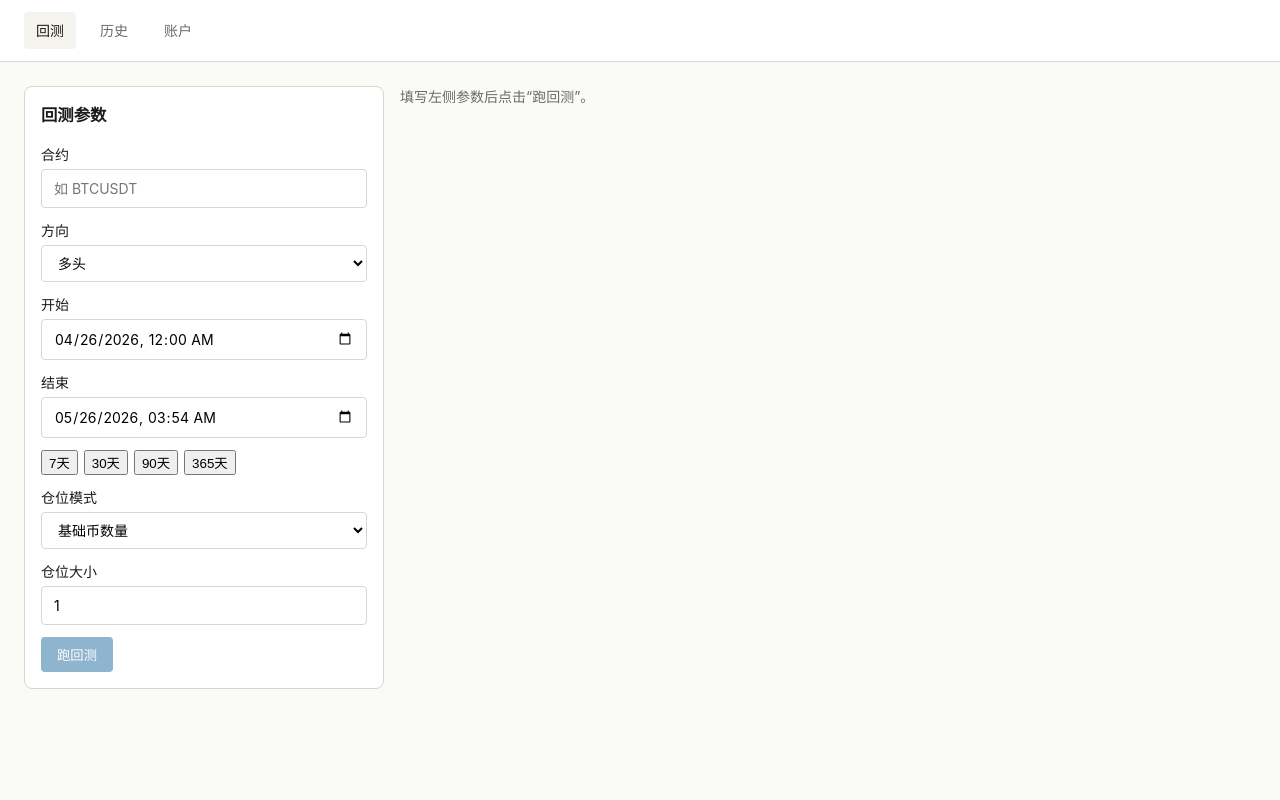
Test: App › switches between tabs on click
The width and height of the screenshot is (1280, 800).
Click the tab "账户". click: (178, 30)
box: x1=152 y1=12 x2=204 y2=49
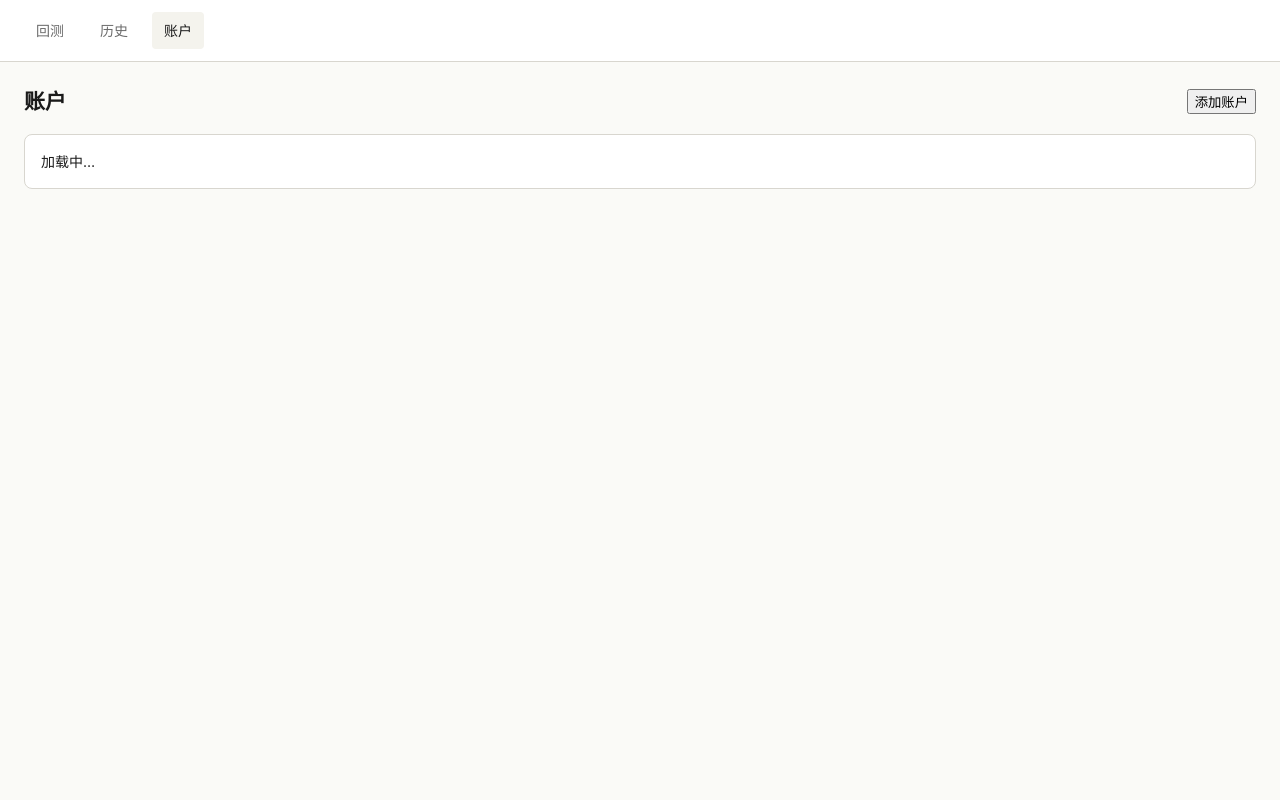
Expected: the element with test id "page-accounts" is shown, x1=24 y1=86 x2=1256 y2=188
Click the tab "历史". click: (114, 30)
box: x1=88 y1=12 x2=140 y2=49
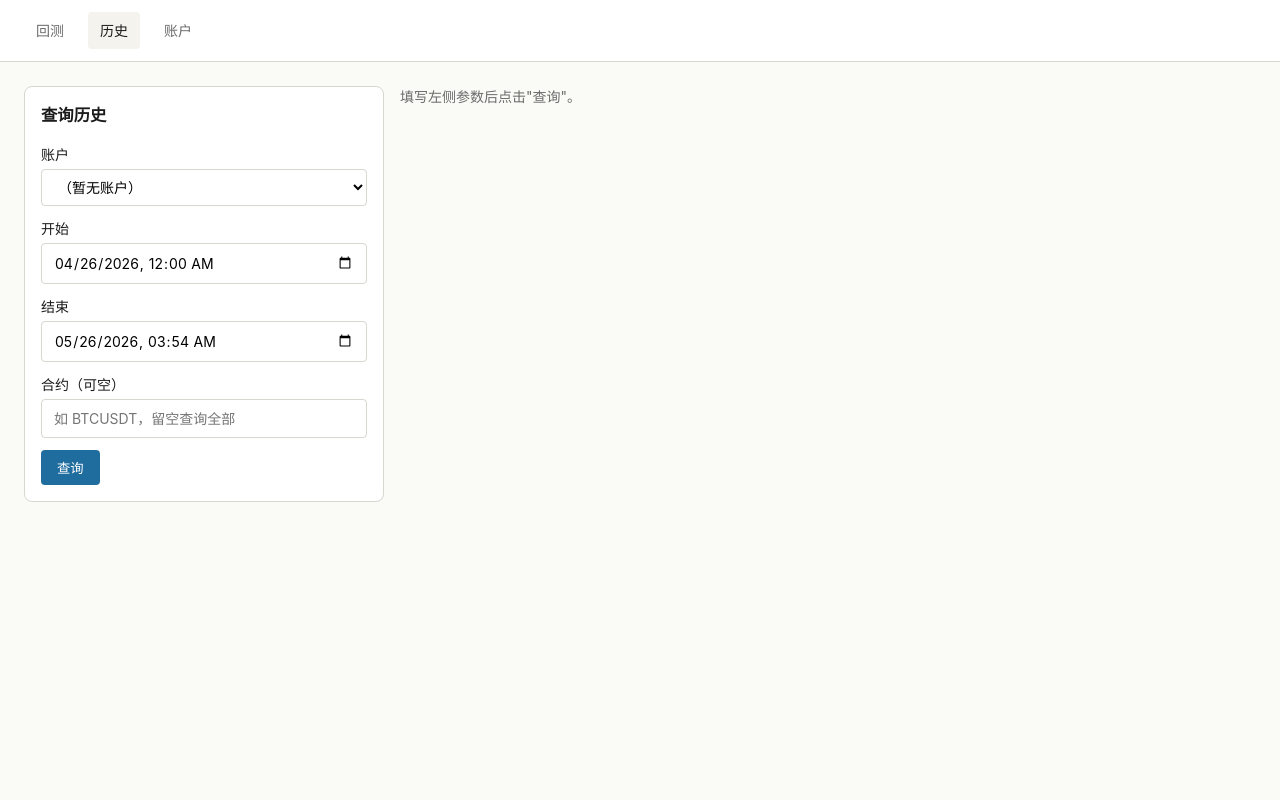
Expected: the element with test id "page-history" is shown, x1=24 y1=86 x2=581 y2=502
